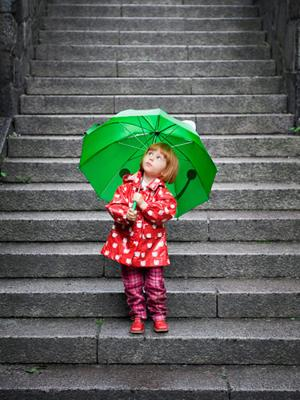person: (101, 142, 178, 334)
